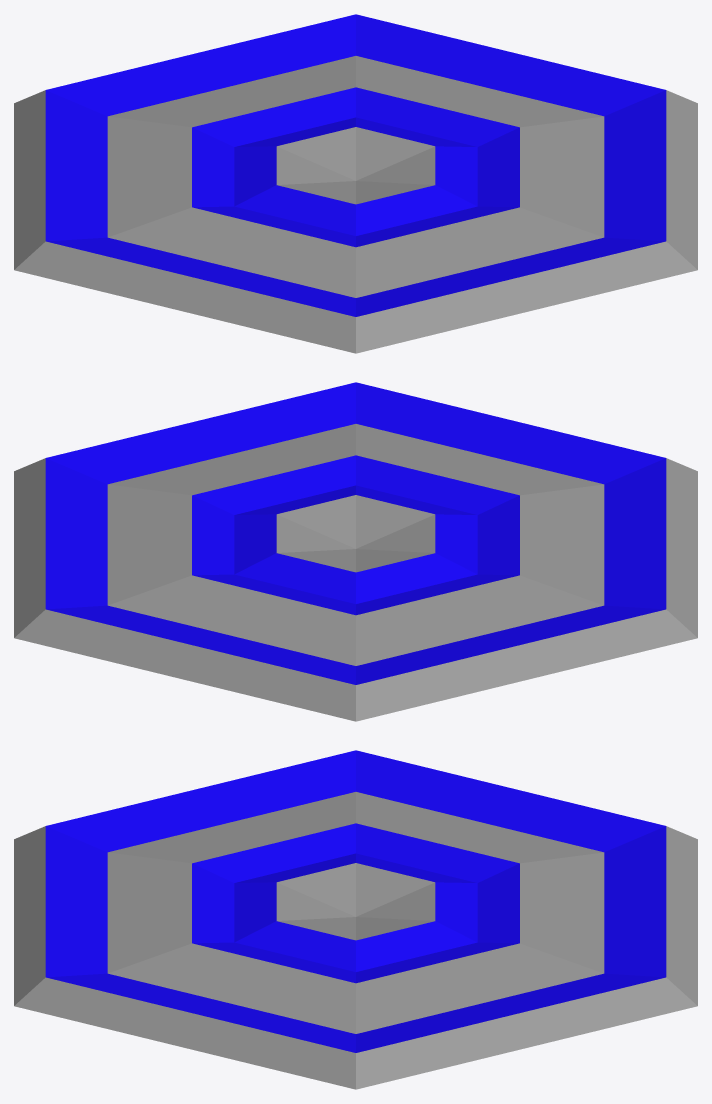
File: BaseTanks.FBX
3 views of the same model, one above another, from view 1: azimuth 30°, elevation 25°; view 2: azimuth 150°, elevation 25°; view 3: azimuth 270°, elevation 25° (orthographic).
Parts seen in each view (by area): view 1: Base; view 2: Base; view 3: Base.
Boxes of the visible parts, x1,y1,x2,y2 form: Base: [14, 14, 697, 353]; Base: [14, 382, 697, 721]; Base: [14, 750, 697, 1089].
Size of the model in its own units: 2.14 by 0.0629 by 1.85.
